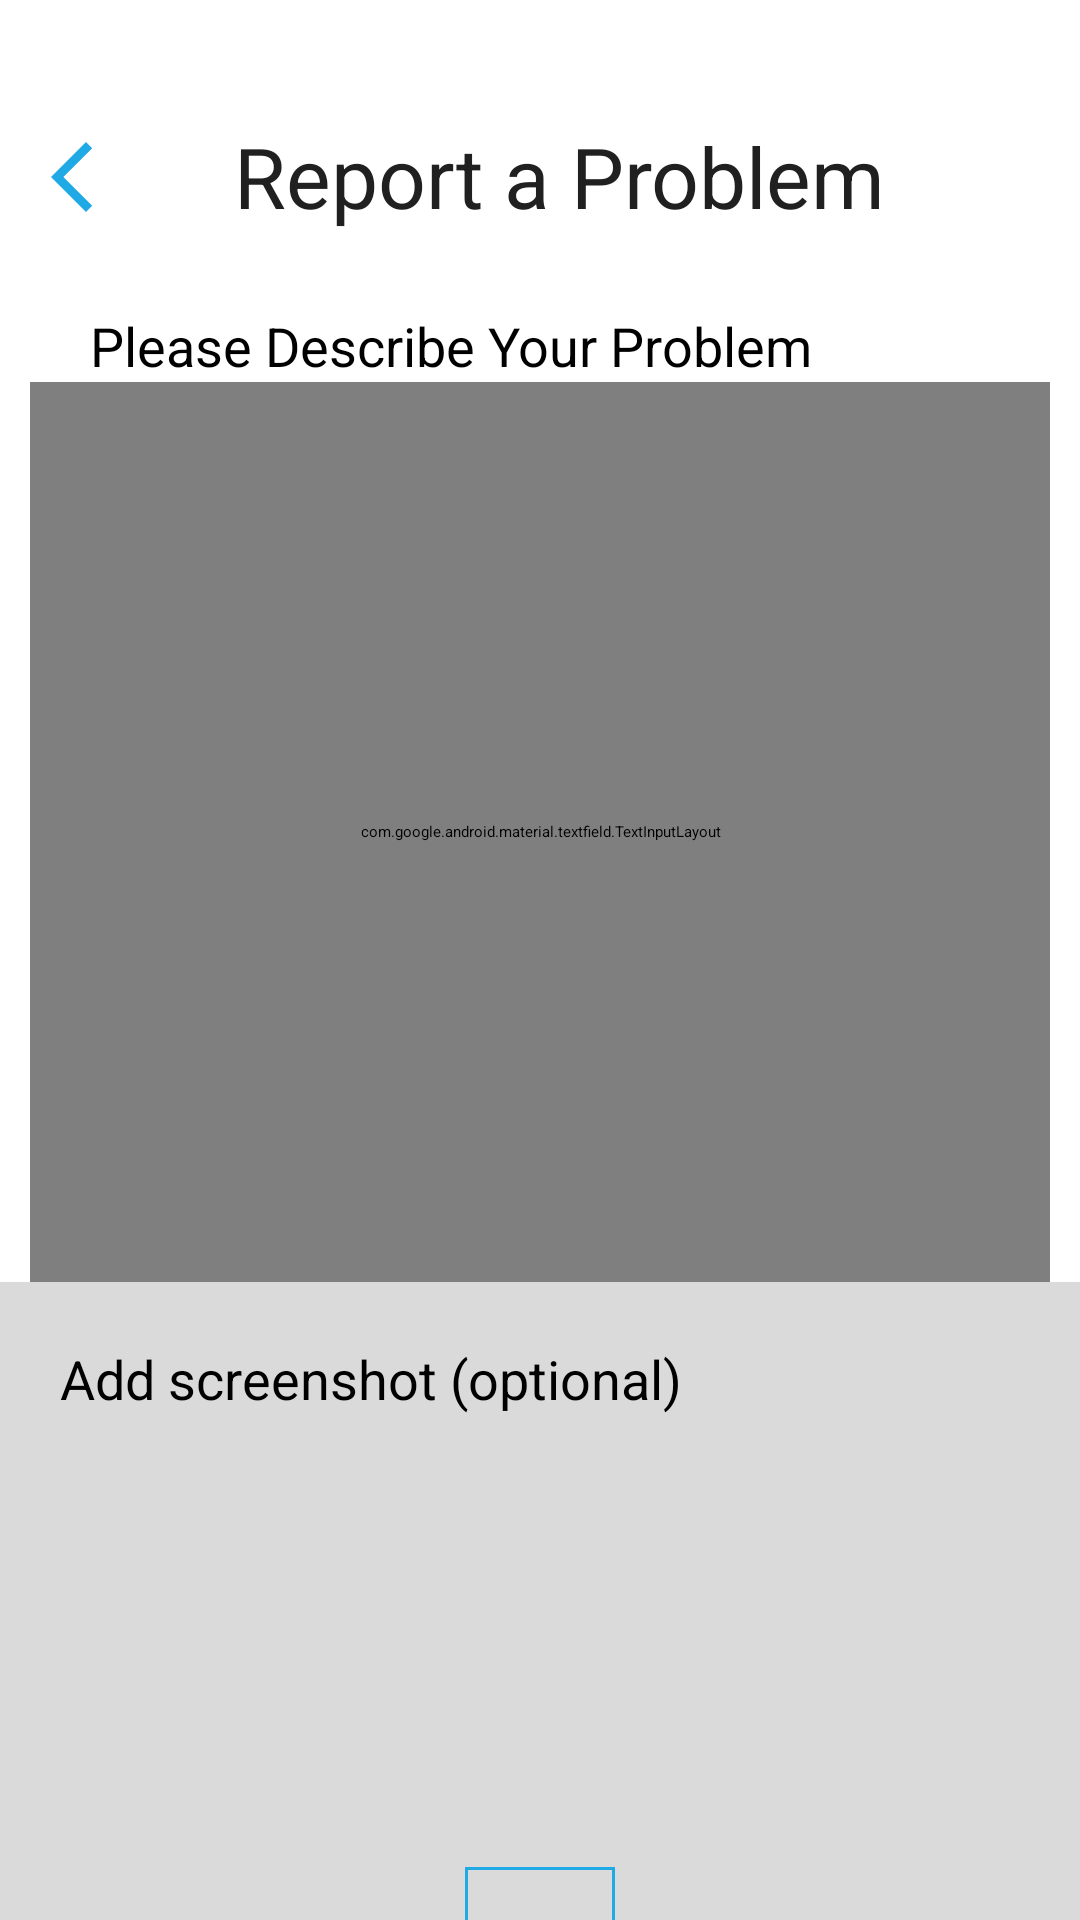

Named icons in this screenshot (1080px×1920px) and their centers, point (x, y):
arrow back: point (71, 177)
